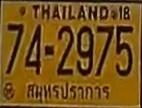2: (57, 25, 74, 76)
4: (24, 24, 41, 74)
5: (114, 25, 132, 75)
7: (5, 23, 24, 75), (96, 25, 113, 76)
9: (76, 25, 93, 75)
SPK: (22, 79, 113, 106)
